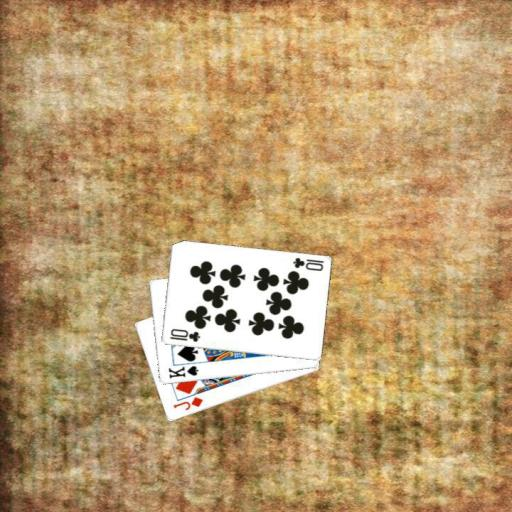10C: (289, 255, 325, 273), (167, 326, 202, 344)
JD: (170, 394, 205, 412)
KS: (165, 363, 200, 381)
